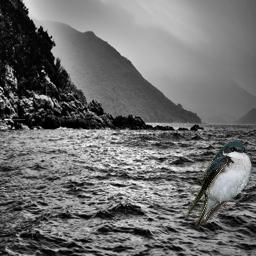Swallow: (186, 138, 254, 228)
